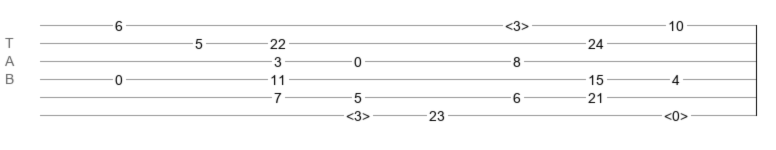0: (115, 72, 123, 82), (354, 54, 362, 64)
10: (668, 18, 684, 28)
11: (270, 72, 286, 82)
15: (588, 72, 604, 82)
21: (588, 90, 604, 100)
22: (270, 36, 286, 46)
23: (429, 108, 445, 118)
24: (588, 36, 604, 46)
3: (274, 54, 282, 64)
4: (672, 72, 680, 82)
5: (195, 36, 203, 46), (354, 90, 362, 100)
6: (115, 18, 123, 28), (513, 90, 521, 100)
7: (274, 90, 282, 100)
8: (513, 54, 521, 64)
harmonic: (346, 108, 370, 118), (505, 18, 529, 28), (664, 108, 688, 118)
